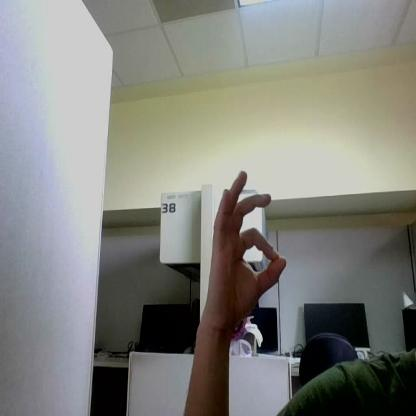F: (206, 172, 286, 325)
